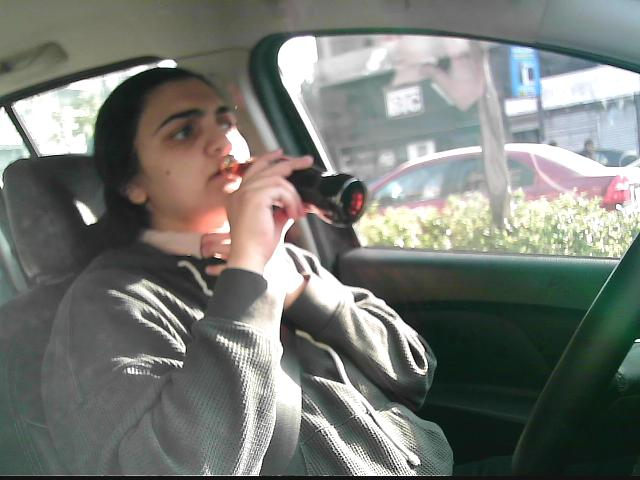Drinking: (122, 74, 366, 252)
